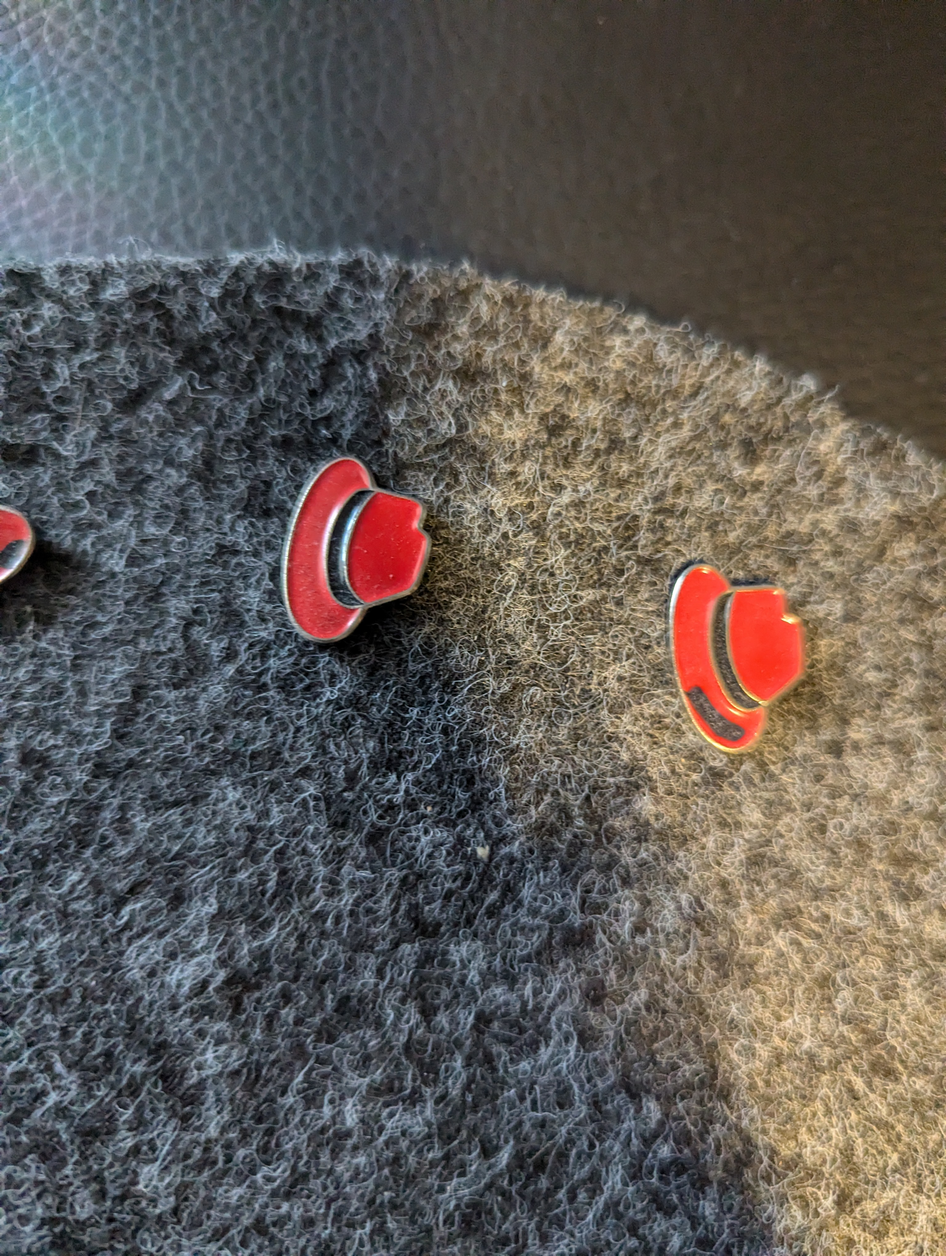Red-Hat: (641, 534, 833, 785), (269, 427, 456, 666)
Scratch: (670, 661, 760, 766)
